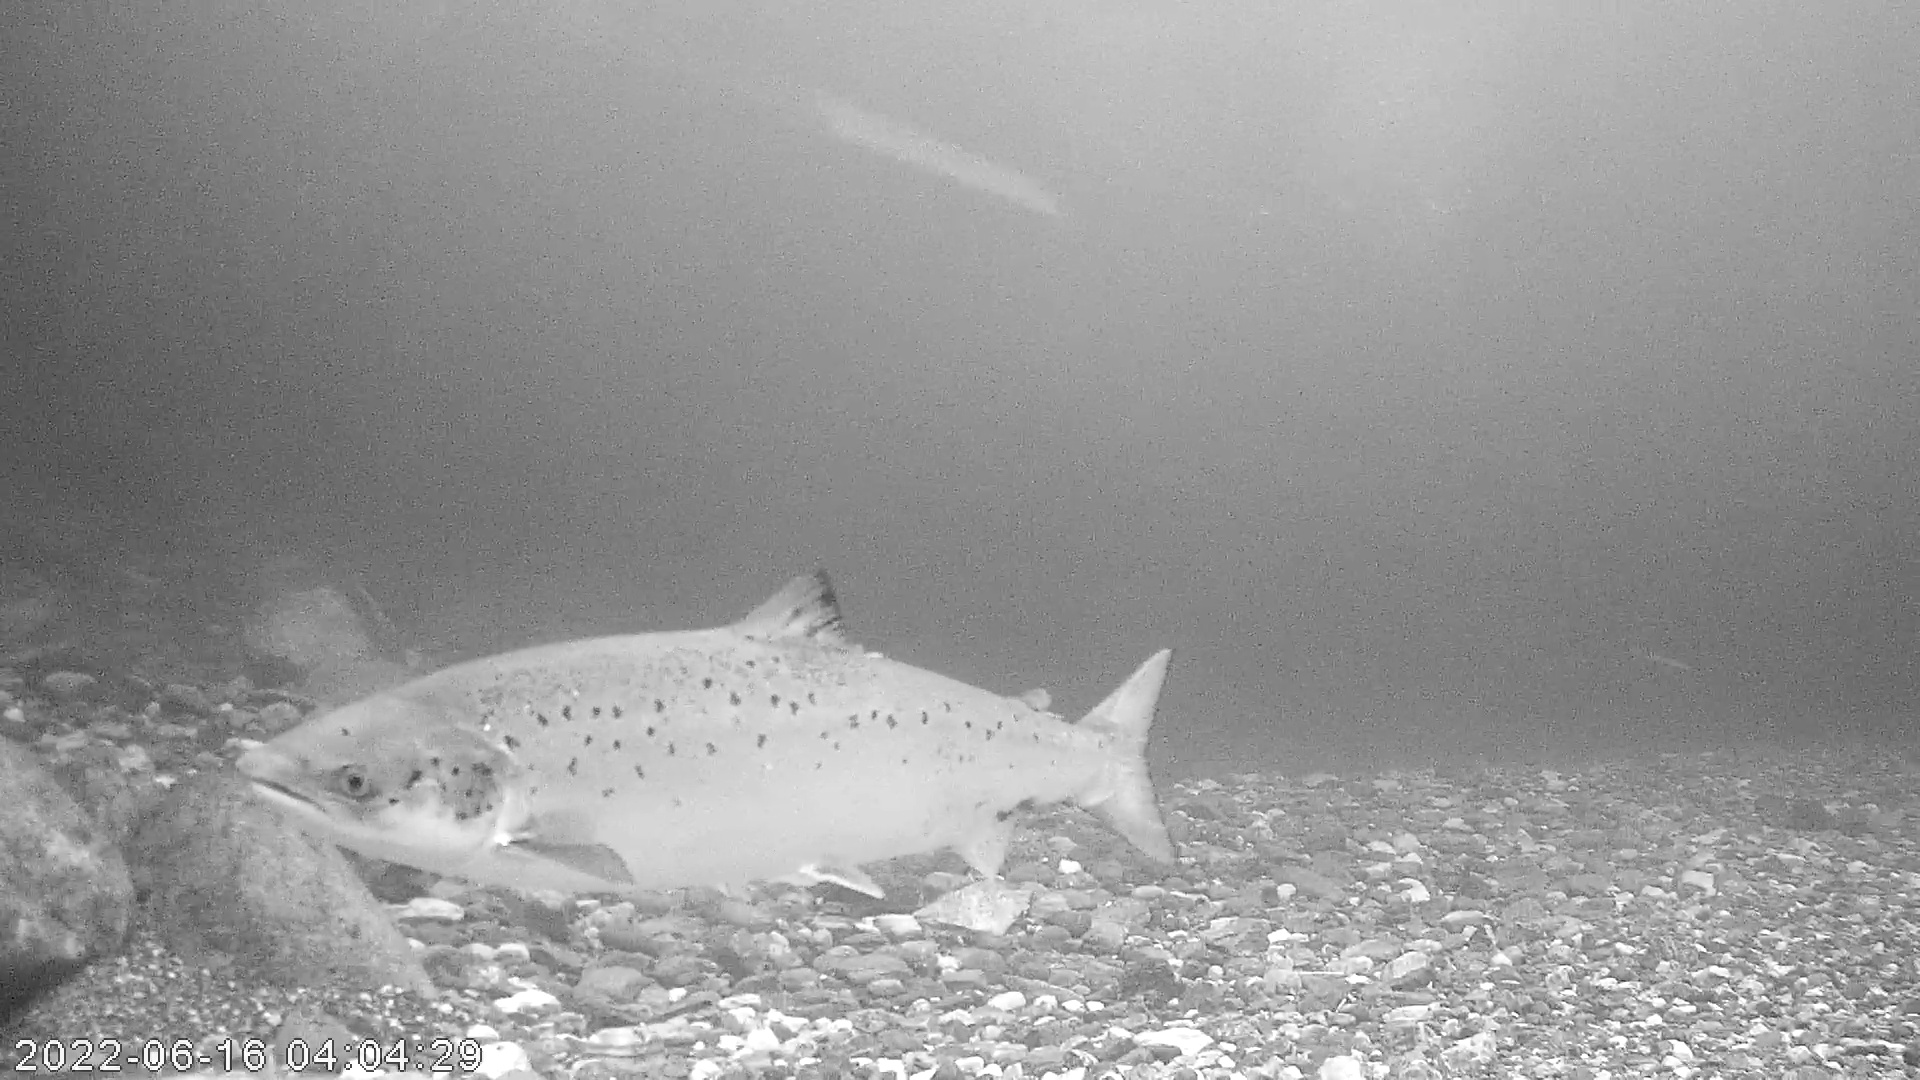salmon: (235, 566, 1180, 899)
